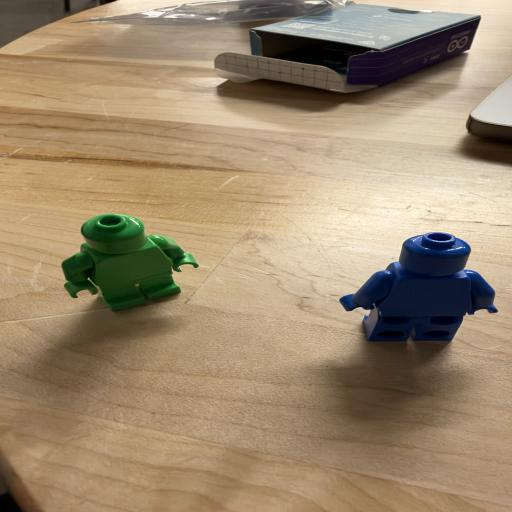blue_minifig: (339, 232, 499, 342)
green_minifig: (61, 213, 200, 312)
